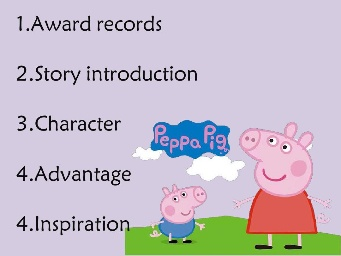Peppa: (234, 122, 328, 251)
